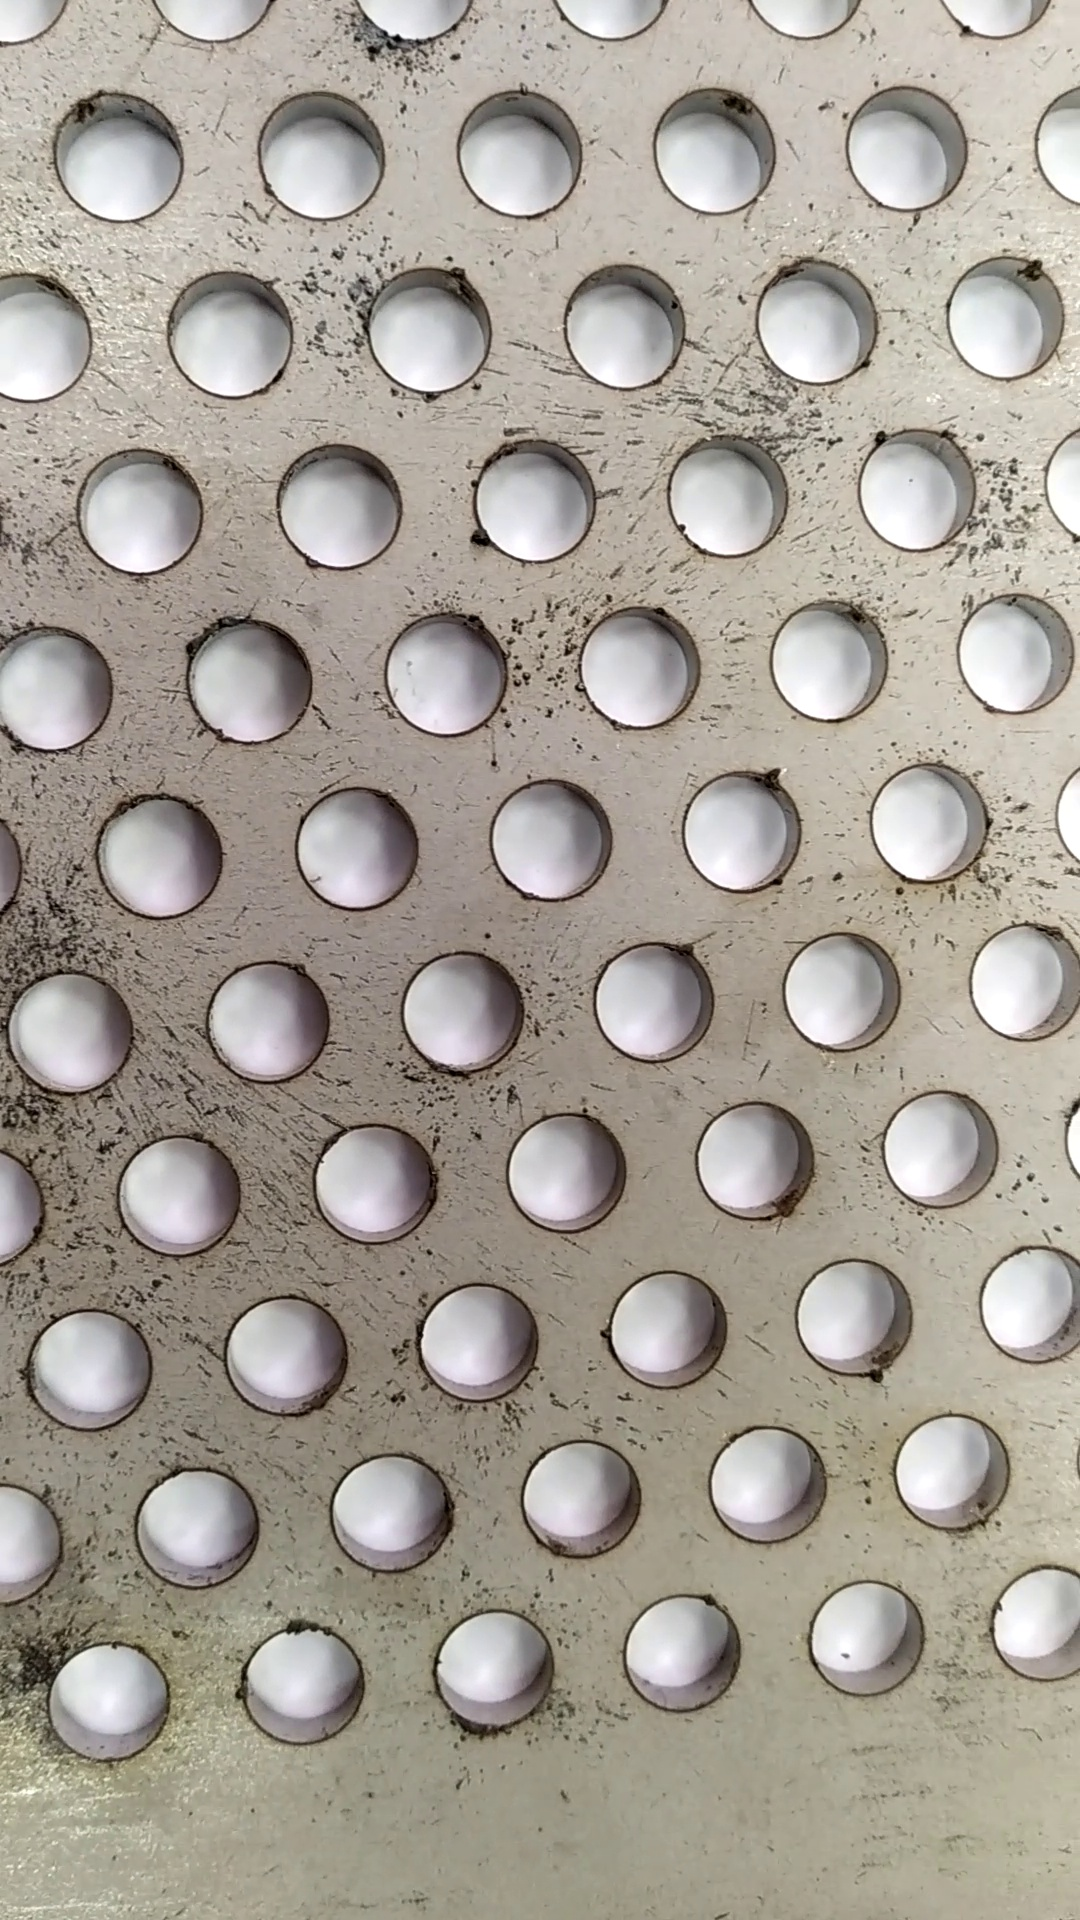Hole: (294, 1106, 451, 1265), (41, 80, 204, 225), (440, 79, 596, 228), (314, 1437, 469, 1585), (18, 1294, 175, 1440), (641, 75, 793, 224), (105, 1124, 257, 1271), (212, 1287, 373, 1425), (247, 76, 398, 222), (124, 1458, 280, 1600), (667, 750, 814, 899), (683, 1418, 841, 1553), (738, 247, 889, 389), (865, 1079, 1015, 1220), (684, 1091, 825, 1240), (406, 1273, 560, 1408), (371, 603, 516, 746), (84, 777, 225, 924), (483, 767, 626, 911), (179, 605, 320, 752), (836, 71, 975, 220), (65, 444, 214, 582), (796, 1568, 943, 1706), (459, 429, 608, 564), (257, 440, 407, 575), (287, 775, 430, 916), (236, 1615, 382, 1753), (4, 960, 145, 1101), (353, 266, 502, 400), (593, 1262, 736, 1400), (582, 932, 727, 1068), (936, 244, 1077, 382), (389, 944, 531, 1081), (843, 415, 977, 560), (164, 264, 301, 405), (761, 591, 902, 728), (551, 256, 691, 393), (512, 1429, 647, 1571), (422, 1604, 564, 1738), (657, 430, 794, 568), (775, 919, 910, 1060), (777, 1254, 918, 1389), (200, 949, 332, 1091), (567, 601, 709, 732), (885, 1403, 1018, 1542), (41, 1636, 181, 1768), (865, 752, 998, 887), (612, 1593, 753, 1720), (502, 1101, 632, 1238), (947, 585, 1080, 715)
